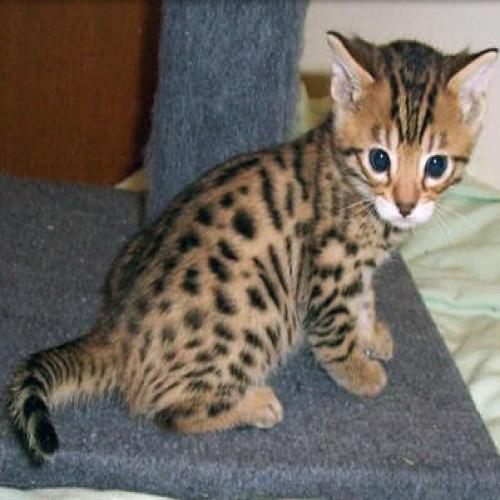bengal: (314, 8, 500, 242)
